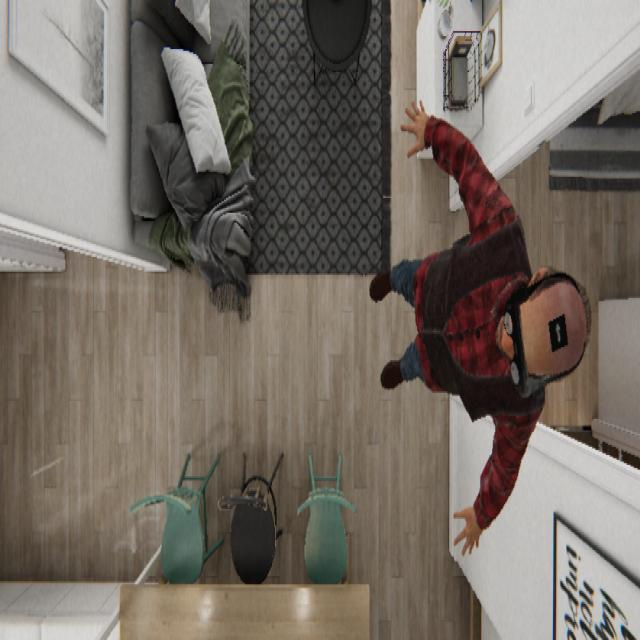Human: (368, 96, 591, 556)
UnityLogo: (547, 310, 569, 354)
